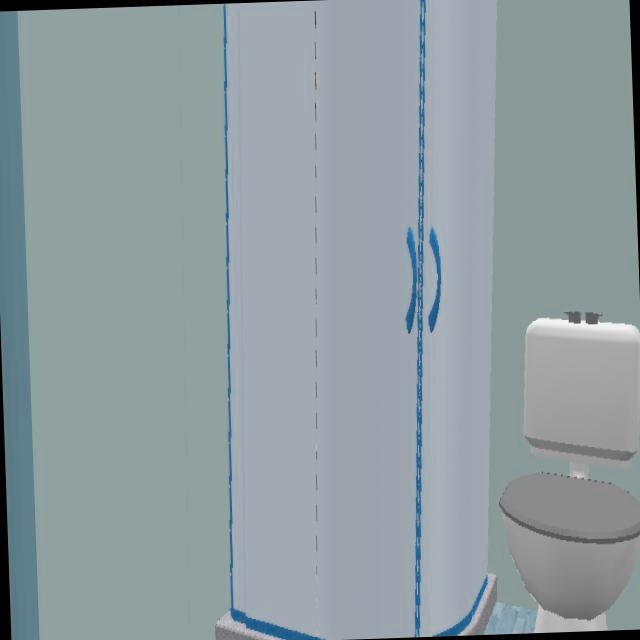shower: (226, 0, 500, 640)
toilet: (498, 311, 640, 633)
